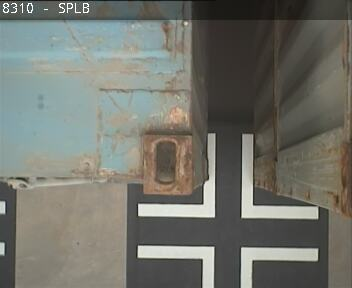groundmarker_1: (138, 133, 319, 221), (138, 244, 318, 288)
